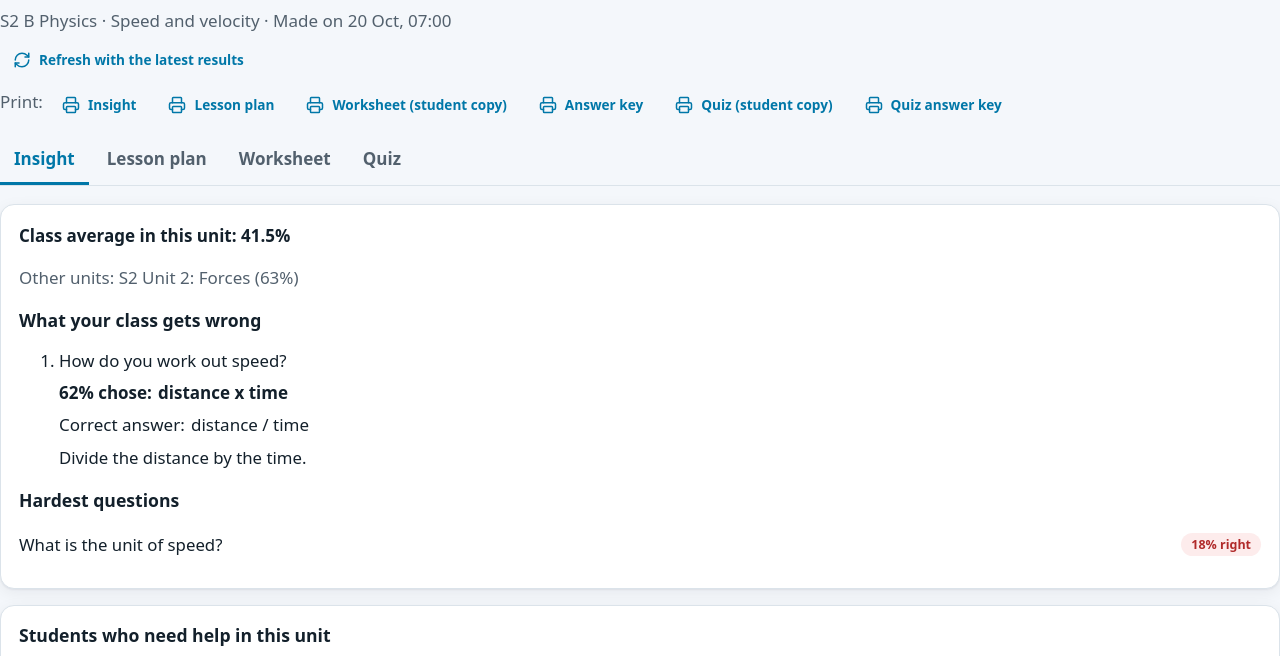
Scenario: Teaching pack page › assign is disabled for a part with no questions
This screenshot has width=1280, height=656.
Click the tab "Worksheet".
click(285, 160)  # box [225,136,345,185]
(page scrolled)
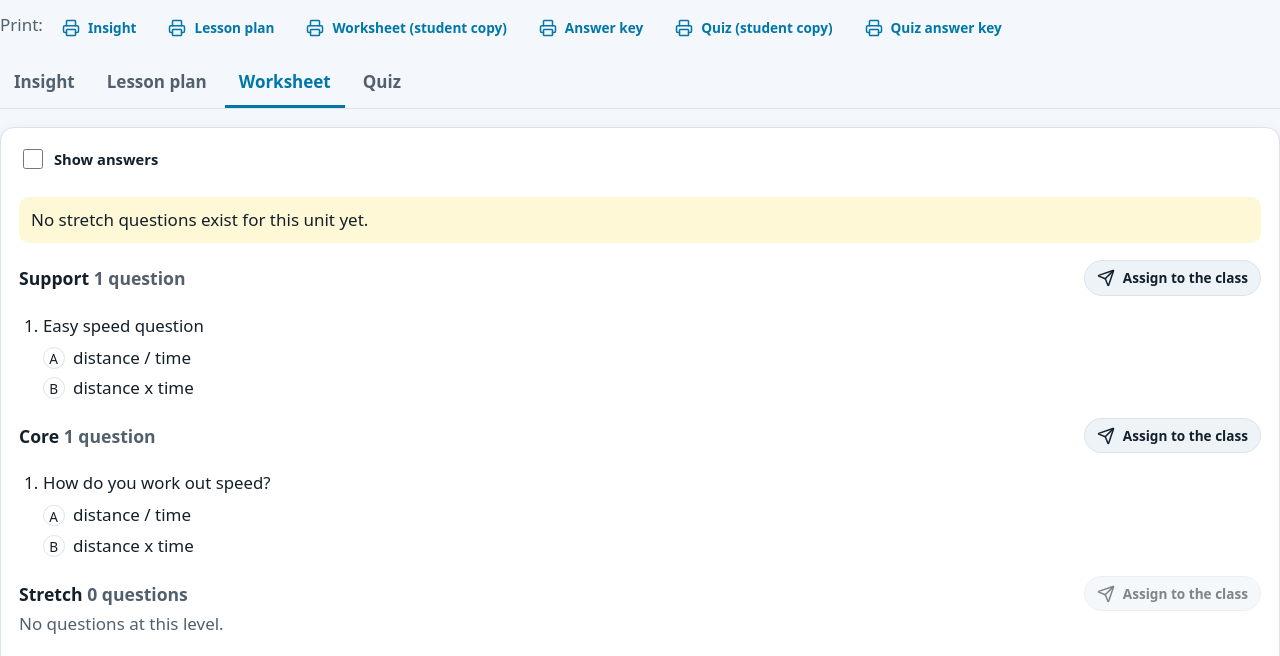
expect the button with aria-label "Assign the stretch level to the class" is disabled: met, box [1084,576,1261,611]
expect the button with aria-label "Assign the core level to the class" is enabled: met, box [1084,418,1261,453]
expect the list item "No stretch questions exist for this unit yet." is shown: met, box [19,197,1261,243]
